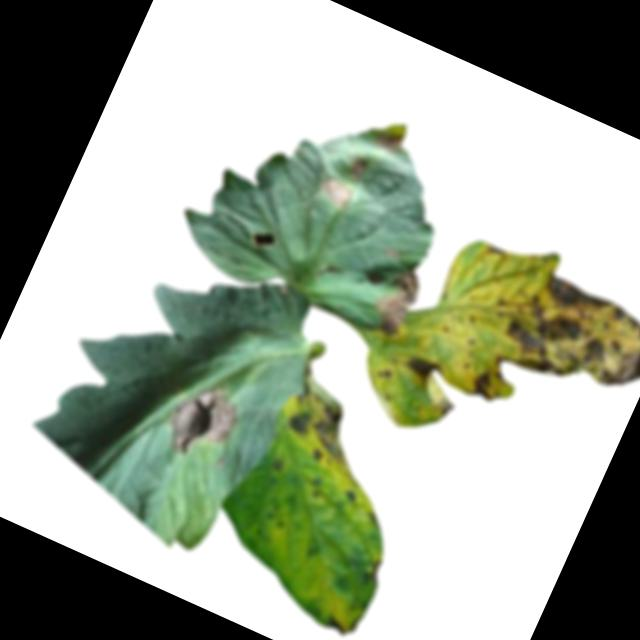Early_blight: (493, 266, 640, 420), (272, 378, 374, 477), (158, 369, 250, 472), (366, 262, 428, 343), (400, 351, 447, 388), (316, 172, 356, 210), (464, 368, 503, 405), (372, 125, 406, 159), (346, 153, 371, 180), (371, 365, 397, 388), (266, 454, 288, 479), (323, 616, 348, 637), (339, 487, 361, 509), (484, 243, 507, 261)
